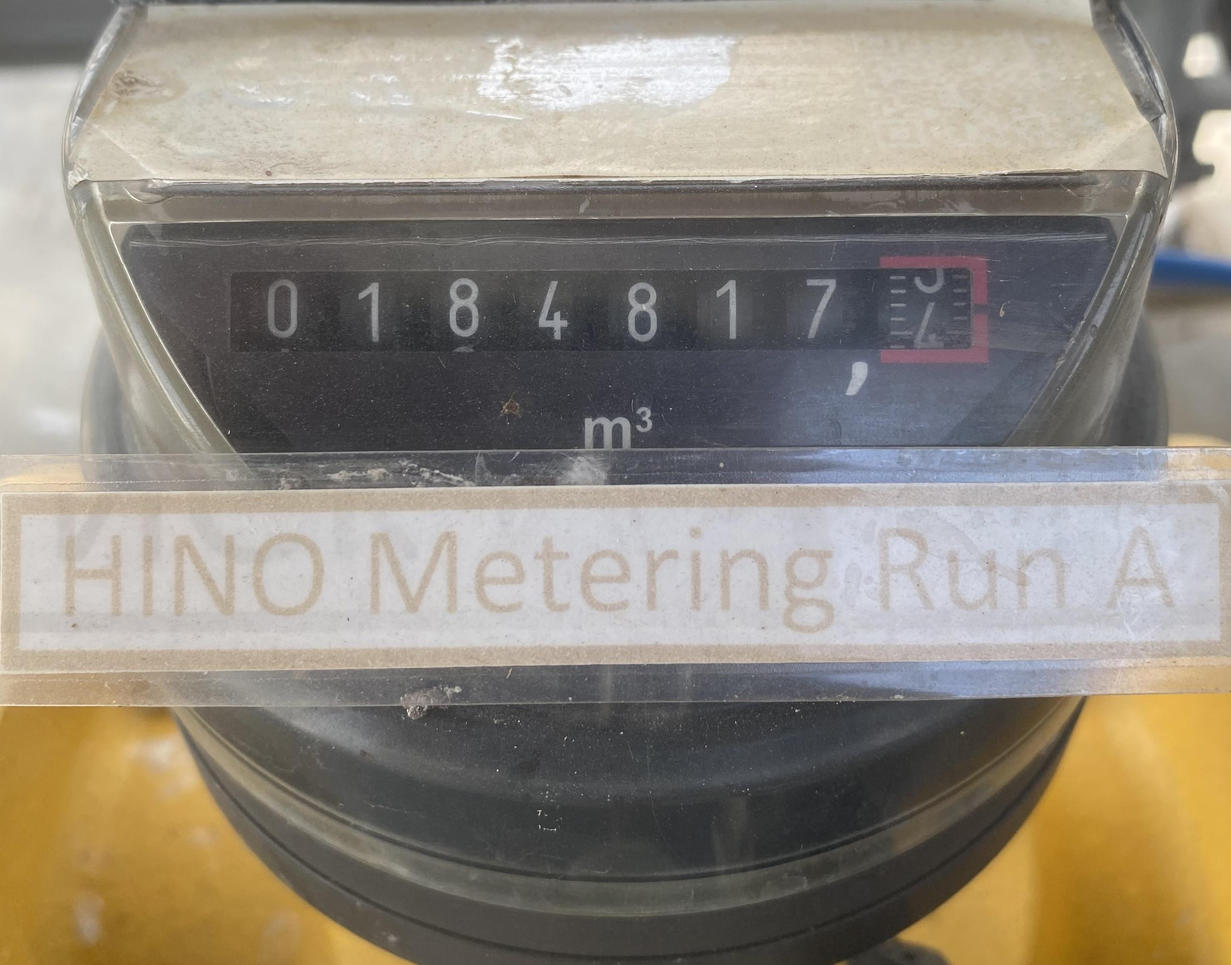analog_dial: (226, 250, 997, 387)
